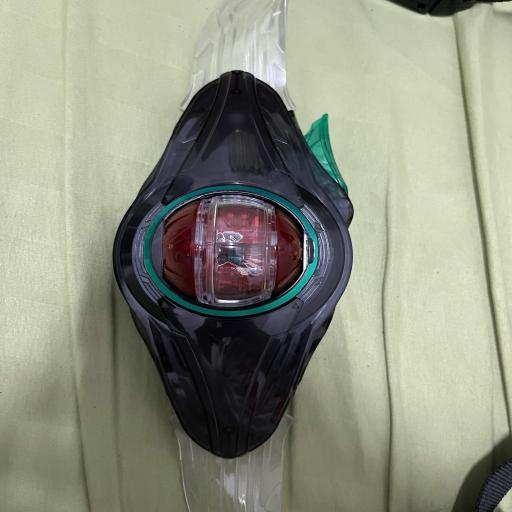zeztzdriver: (113, 0, 353, 462), (171, 414, 293, 512)
